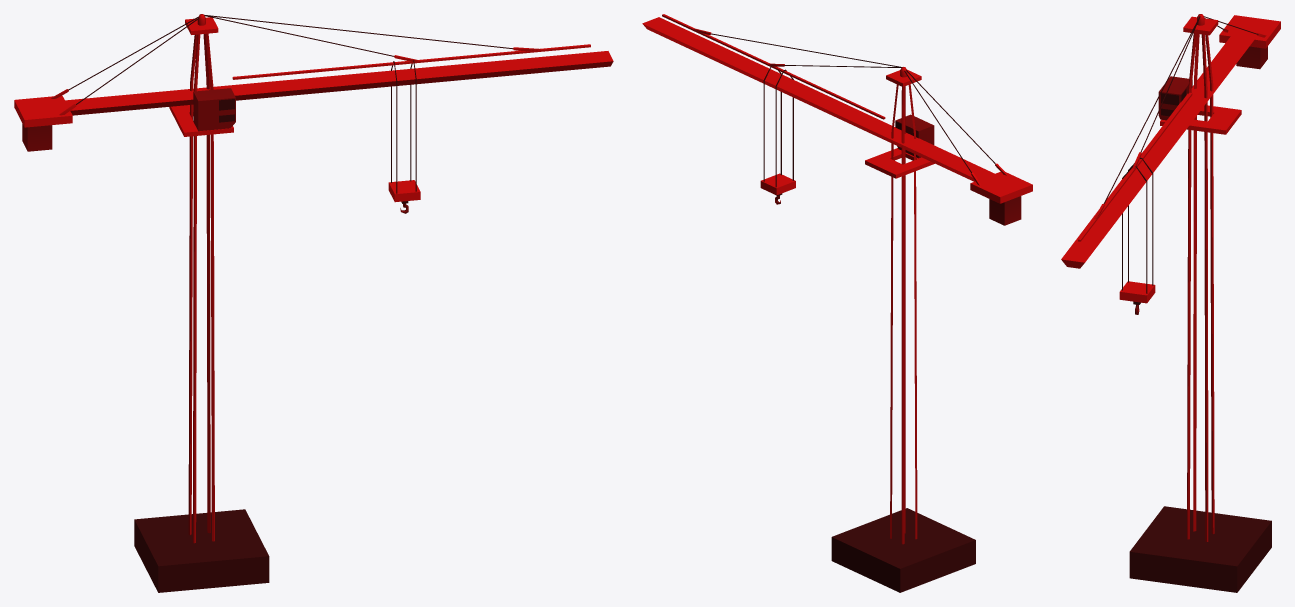
3 renders of one model, left to right at view 1: azimuth 30°, elevation 25°; view 2: azimuth 150°, elevation 25°; view 3: azimuth 270°, elevation 25°, orthographic. The views are drawn at different scales.
Parts seen in each view (by area): view 1: base.020; view 2: base.020; view 3: base.020.
Boxes of the visible parts, left/top/right/bottom form: base.020: left=14, top=14, right=613, bottom=592; base.020: left=642, top=14, right=1032, bottom=592; base.020: left=1061, top=14, right=1280, bottom=592.
Size of the model in its own units: 2213 by 5896 by 6088.
